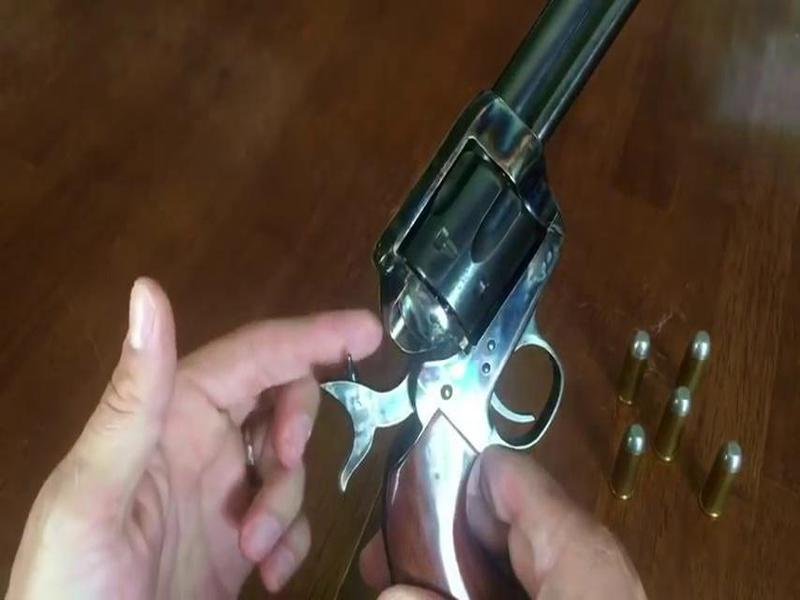Revolver: (340, 20, 677, 586)
